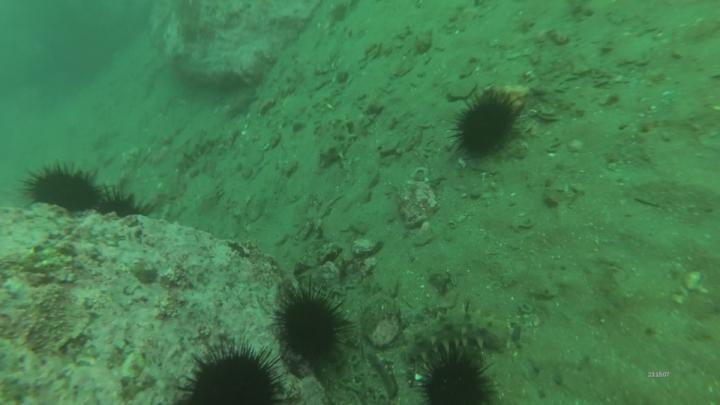echinus: (270, 276, 359, 373), (171, 336, 289, 405), (443, 84, 525, 166), (415, 355, 507, 404), (21, 162, 101, 213), (92, 190, 149, 225)
holothurian: (396, 301, 519, 363), (175, 132, 224, 176)
